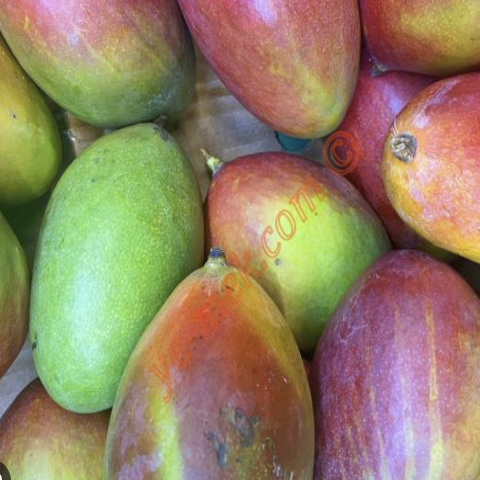mango: (26, 89, 208, 429), (94, 243, 328, 480), (188, 111, 395, 358), (297, 204, 480, 480)
